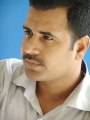male: (16, 17, 68, 85)
